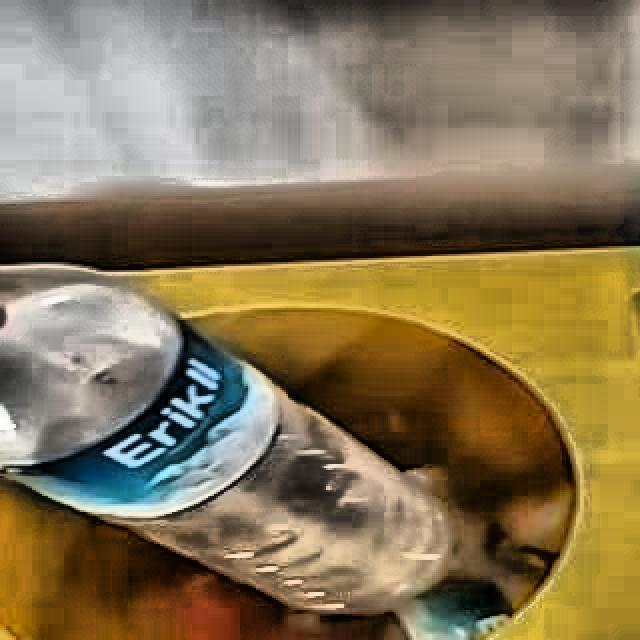plastic: (0, 265, 447, 610)
